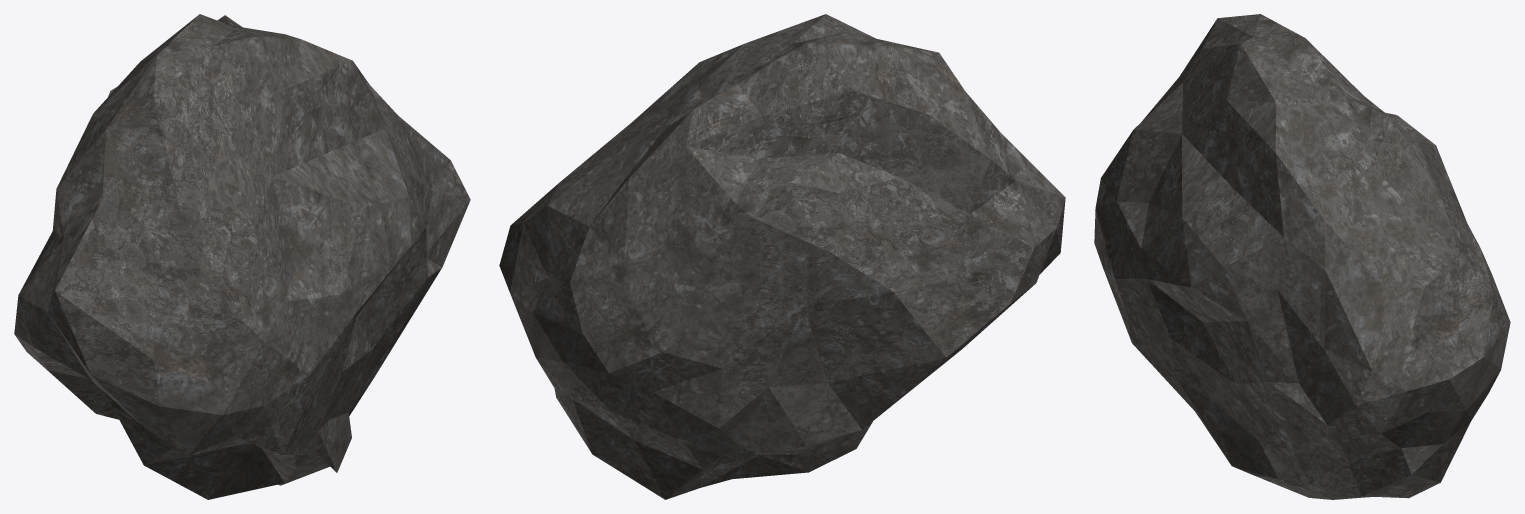
The model's file is SNSS_Lmain_Asteroid002.fbx.
The picture shows the model from 3 angles, left to right: view 1: azimuth 30°, elevation 25°; view 2: azimuth 150°, elevation 25°; view 3: azimuth 270°, elevation 25°; orthographic projection. The views are drawn at different scales.
Parts seen in each view (by area): view 1: Asteriod_02; view 2: Asteriod_02; view 3: Asteriod_02.
Boxes of the visible parts, <box> form: Asteriod_02: <box>14,14,470,499</box>; Asteriod_02: <box>499,14,1065,499</box>; Asteriod_02: <box>1094,14,1510,499</box>.
Size of the model in its own units: 813 by 742 by 657.
1 material, 1 textured.
